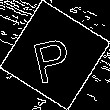P_N: (31, 26, 79, 84)
